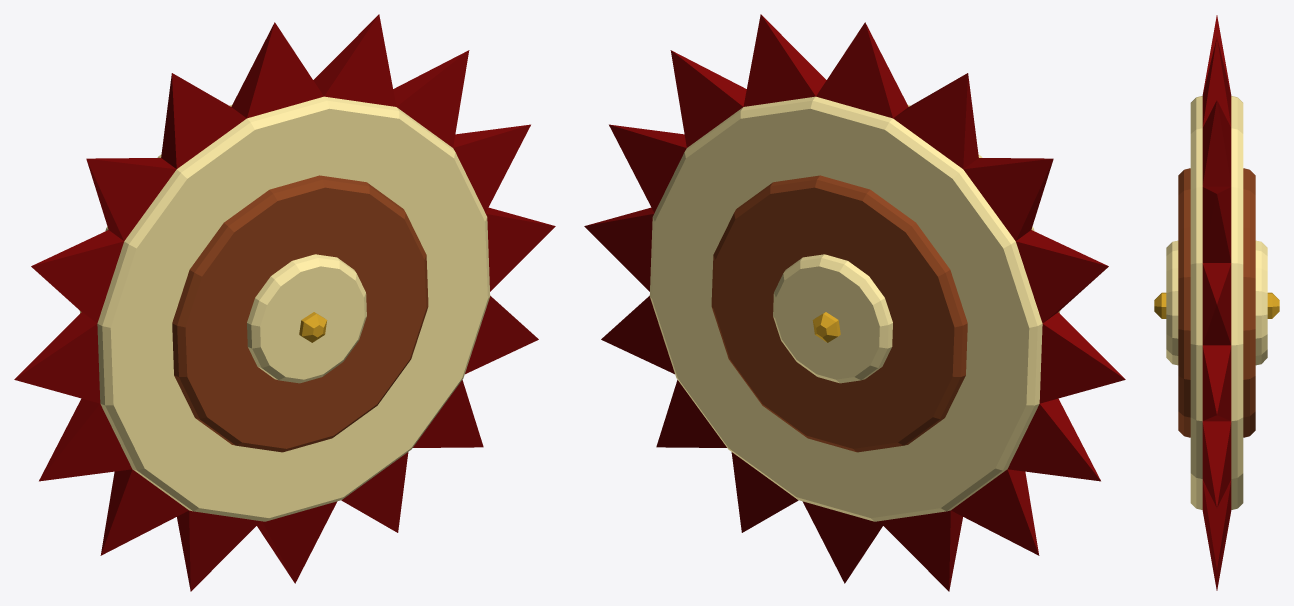
File: pila.fbx
3 renders of one model, left to right at view 1: azimuth 30°, elevation 25°; view 2: azimuth 150°, elevation 25°; view 3: azimuth 270°, elevation 25°, orthographic. The views are drawn at different scales.
Parts seen in each view (by area): view 1: Circle; view 2: Circle; view 3: Circle.
Part boxes in pixels (<box>): Circle: <box>14,14,555,591</box>; Circle: <box>584,14,1125,591</box>; Circle: <box>1154,15,1279,590</box>.
Size of the model in its own units: 240 by 240 by 52.
